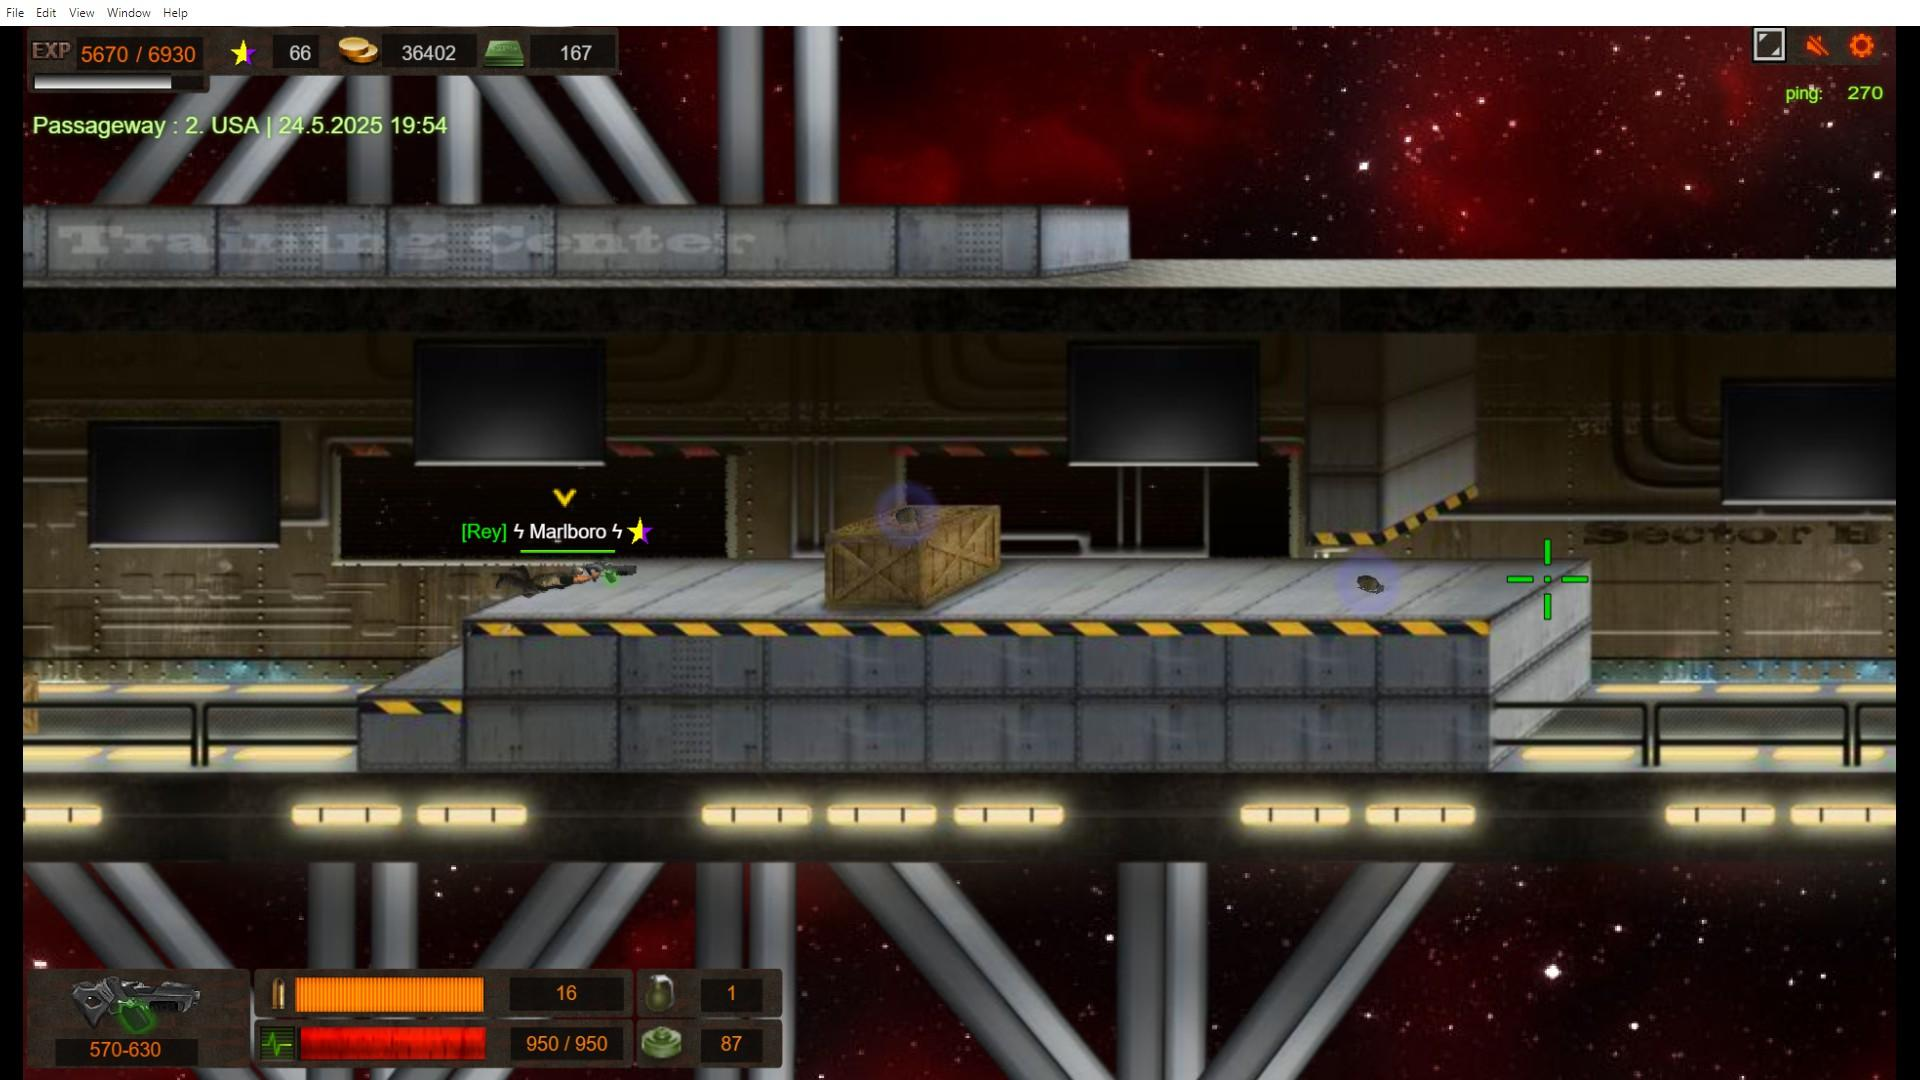enemy: (502, 566, 593, 595)
